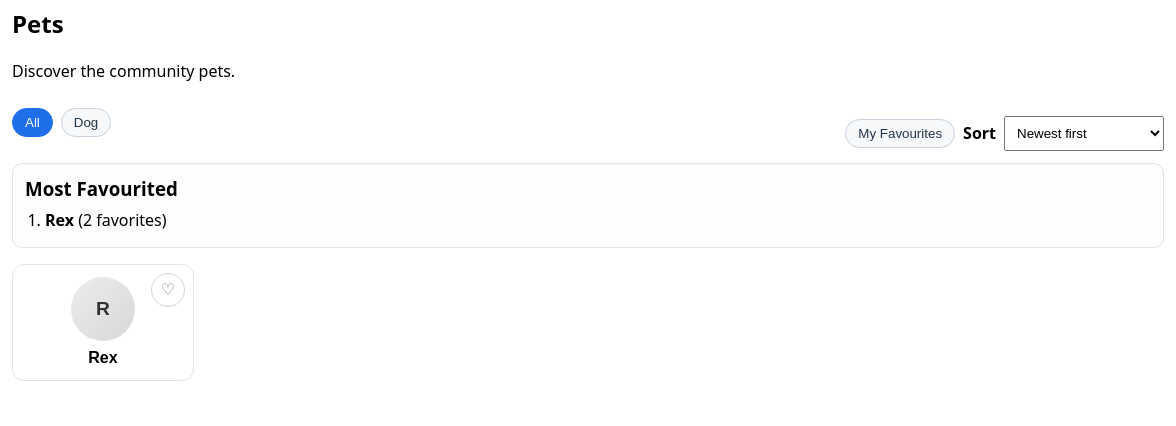
Test case: Home page › rolls back favorite state and shows error when add favorite fails
Click the button named "Add to favorites": point(168, 290) [151,273,185,307]
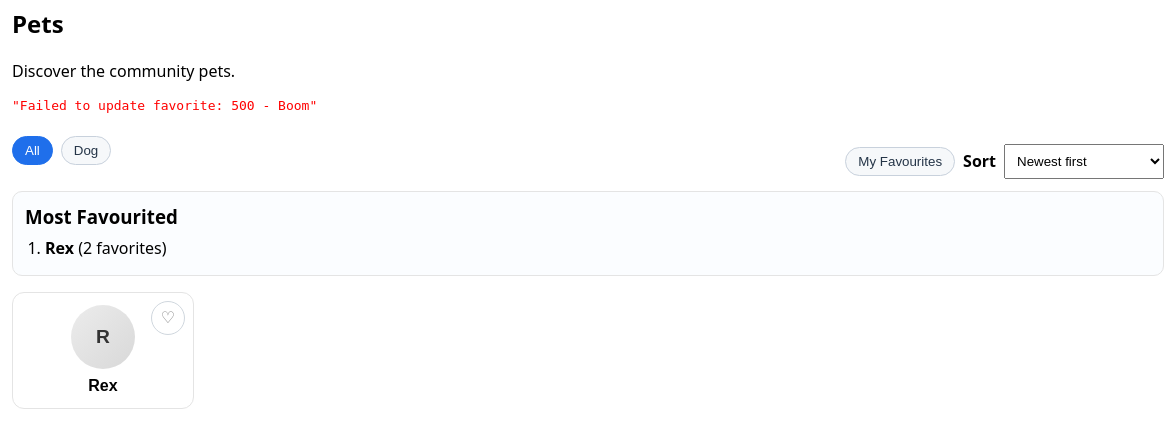
Expected: the button named "Add to favorites" is shown, [151,301,185,335]
Expected: the text "\"Failed to update favorite: 500 - Boom\"" is shown, [12,98,317,113]
